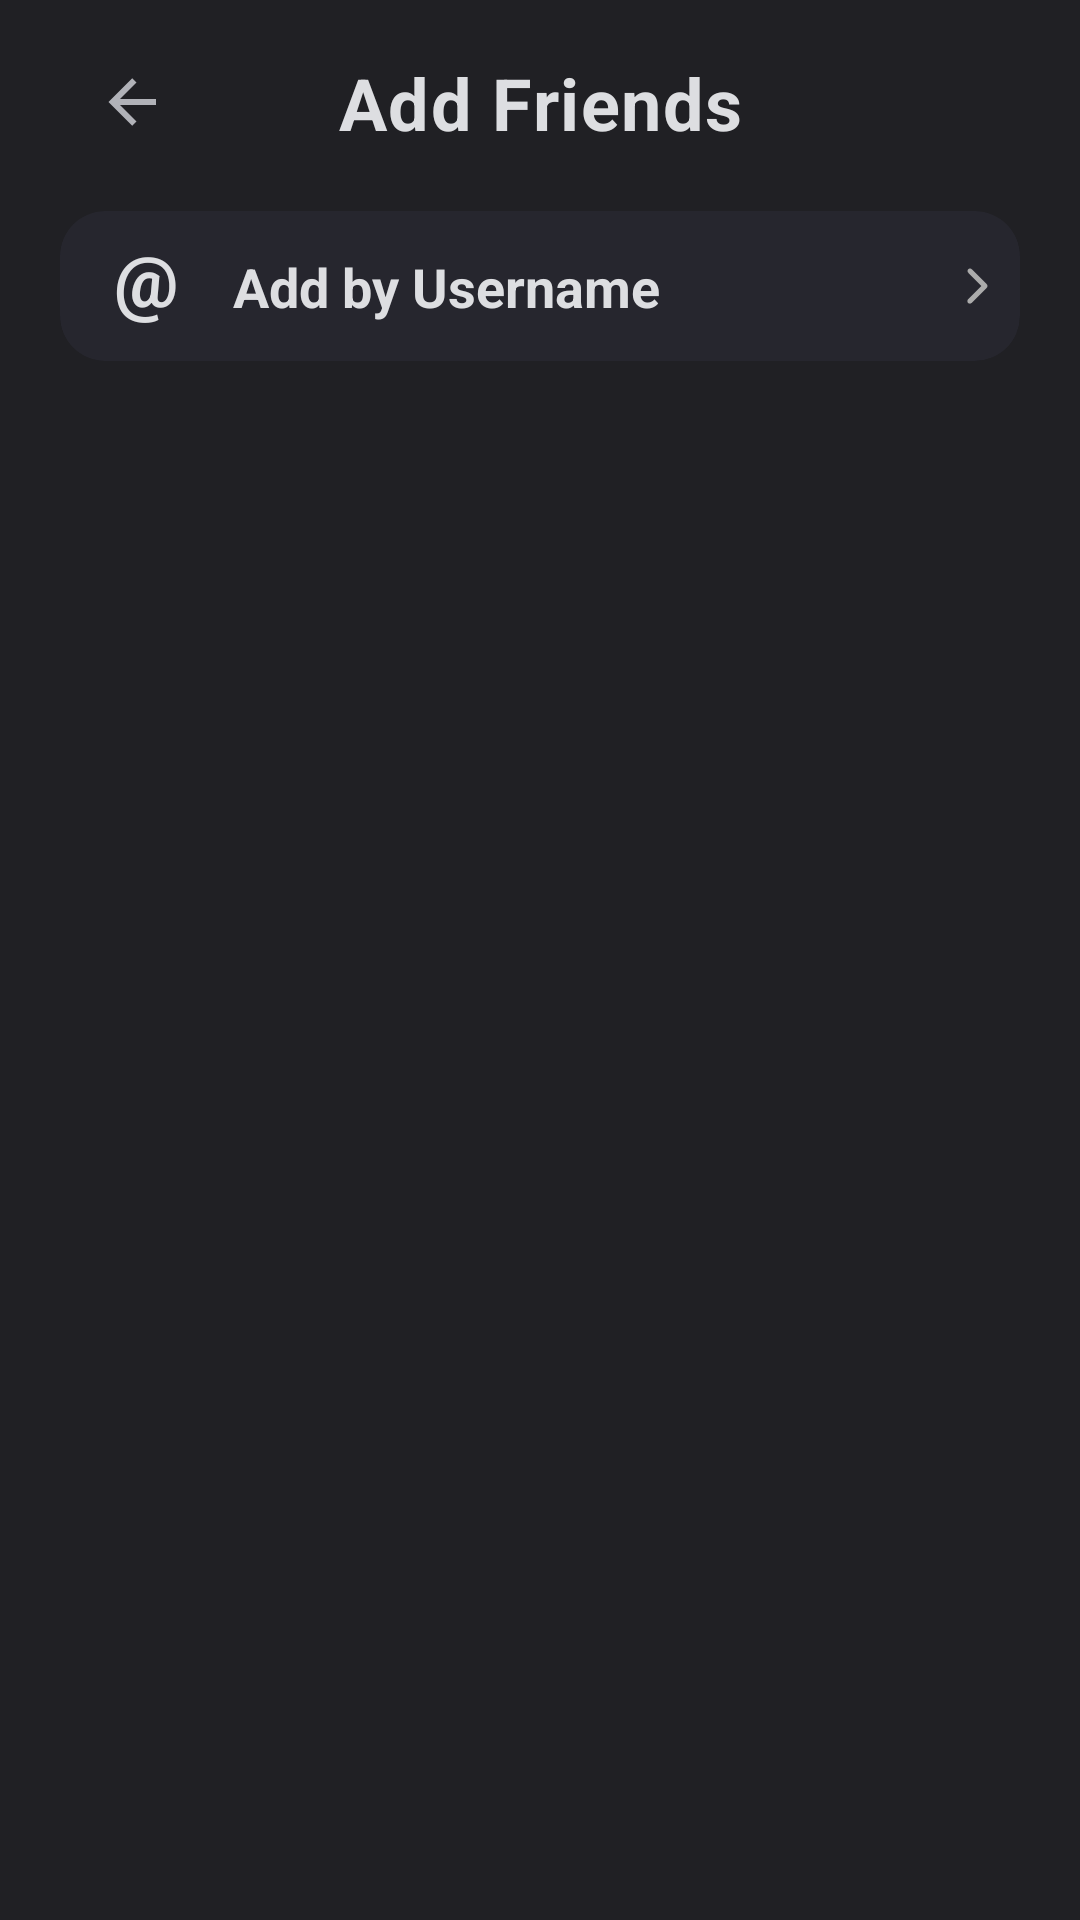

Named icons in this screenshot (1080×1920) and their bounding boxes, [x1=x1, y1=y1, x2=x2, y2=y2]:
Back: [x1=109, y1=78, x2=156, y2=126]
right arrow: [x1=967, y1=268, x2=988, y2=304]
